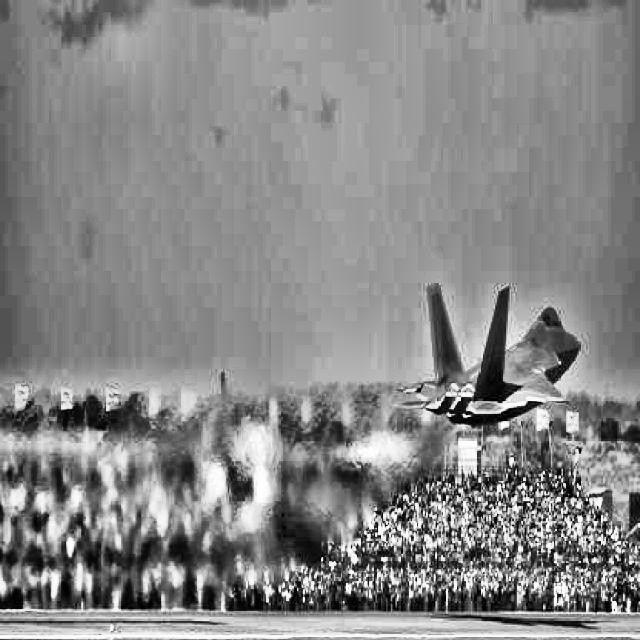F22: (392, 282, 580, 428)
